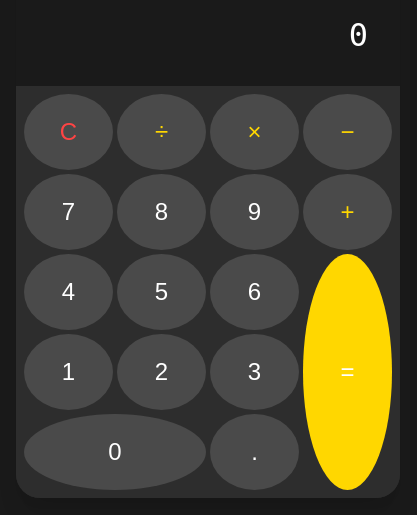
Test case: performs subtraction correctly
Click the button with test id "button-5" at x=162, y=292, box x1=117 y1=254 x2=206 y2=330
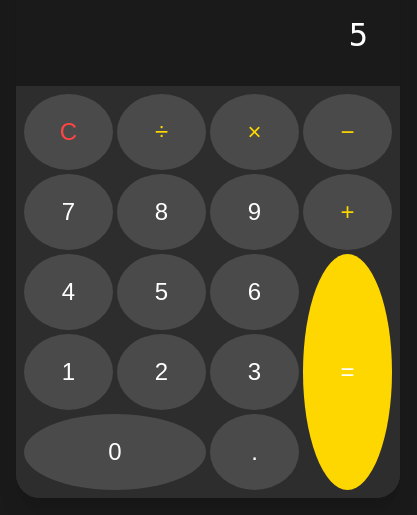
Click the button with test id "button-minus" at x=348, y=132, box x1=303 y1=94 x2=392 y2=170
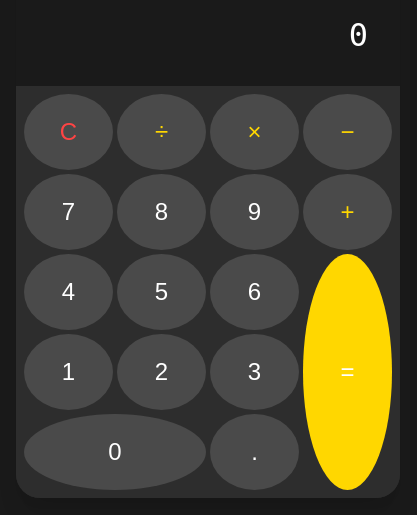
Click the button with test id "button-3" at x=254, y=372, box x1=210 y1=334 x2=299 y2=410
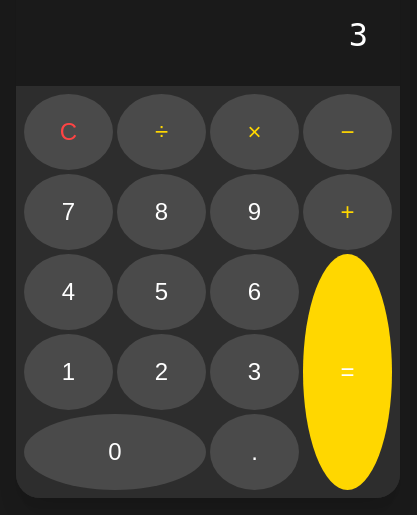
Click the button with test id "button-equal" at x=348, y=372, box x1=303 y1=254 x2=392 y2=490
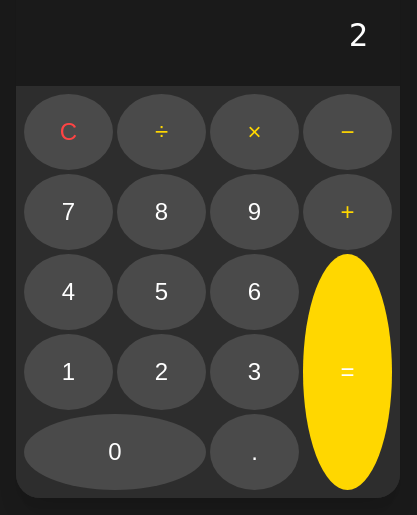
Check: the text with test id "result" reads "2", box x1=349 y1=16 x2=368 y2=54
